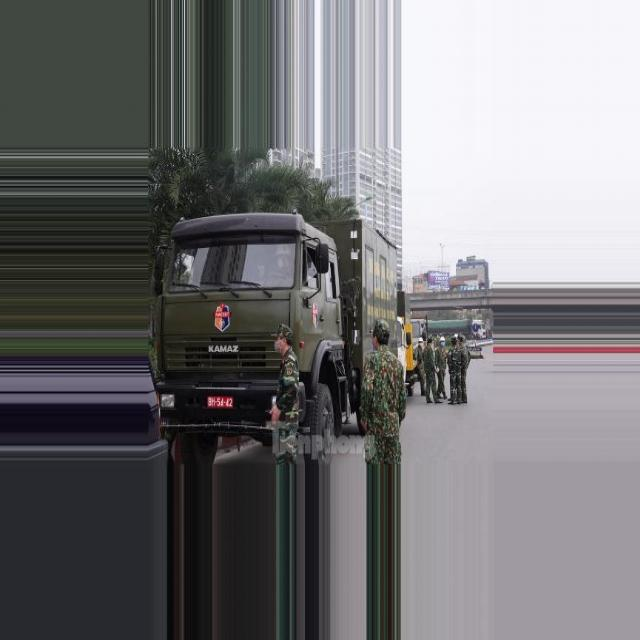License-Plates: (204, 393, 238, 412)
